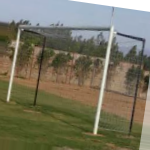goals: (6, 22, 146, 137)
